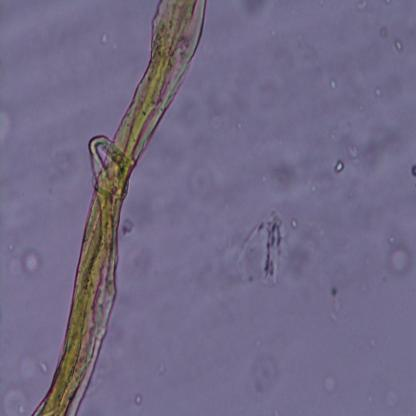Background material: (309, 104, 399, 168), (236, 207, 285, 290), (282, 206, 328, 278), (244, 326, 292, 394), (244, 59, 286, 128), (179, 170, 228, 218), (266, 153, 309, 200), (48, 144, 85, 184), (124, 249, 162, 282), (233, 0, 281, 23), (0, 384, 31, 415), (21, 348, 51, 380), (6, 250, 42, 276), (0, 98, 17, 152), (386, 245, 412, 278), (380, 377, 400, 410), (322, 369, 342, 400), (329, 280, 342, 327), (123, 218, 137, 236), (369, 82, 384, 98), (100, 31, 110, 45), (334, 160, 343, 175), (394, 40, 404, 52), (410, 161, 416, 180), (328, 78, 336, 90), (134, 394, 142, 406)
Cotton: (32, 0, 208, 414)
